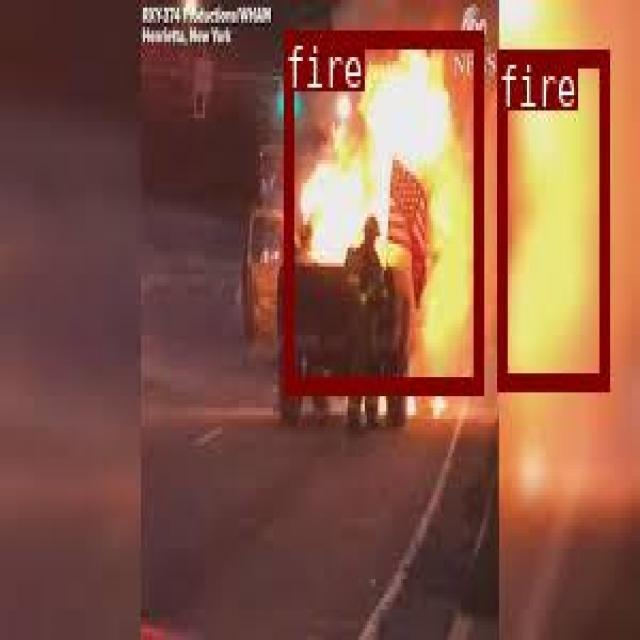fire: (283, 30, 481, 389), (497, 47, 608, 387)
